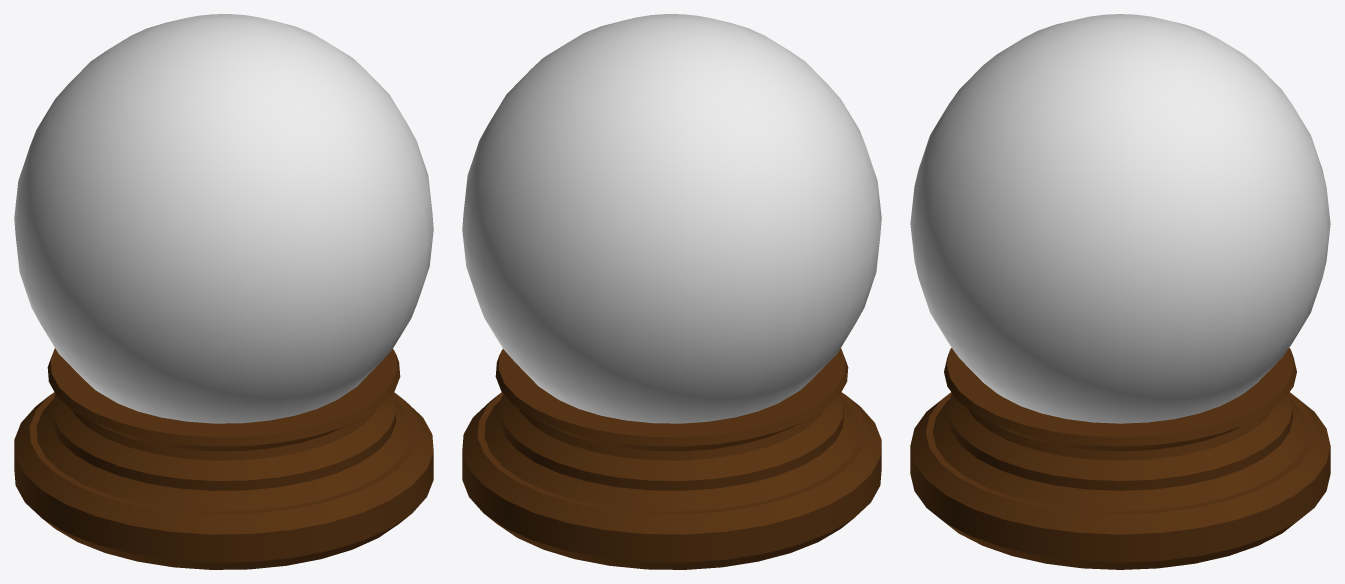
File: christmas_ball.fbx
3 renders of one model, left to right at view 1: azimuth 30°, elevation 25°; view 2: azimuth 150°, elevation 25°; view 3: azimuth 270°, elevation 25°, orthographic.
Parts seen in each view (by area): view 1: Sphere, Base; view 2: Sphere, Base; view 3: Sphere, Base.
Part boxes in pixels (box(x1,y1,x2,y2)): Sphere: box(14, 14, 433, 423); Base: box(14, 348, 433, 569); Sphere: box(462, 14, 881, 423); Base: box(462, 348, 881, 569); Sphere: box(910, 14, 1330, 423); Base: box(910, 348, 1330, 569).
Bounding box in the file's own units: 200 × 239 × 200.
